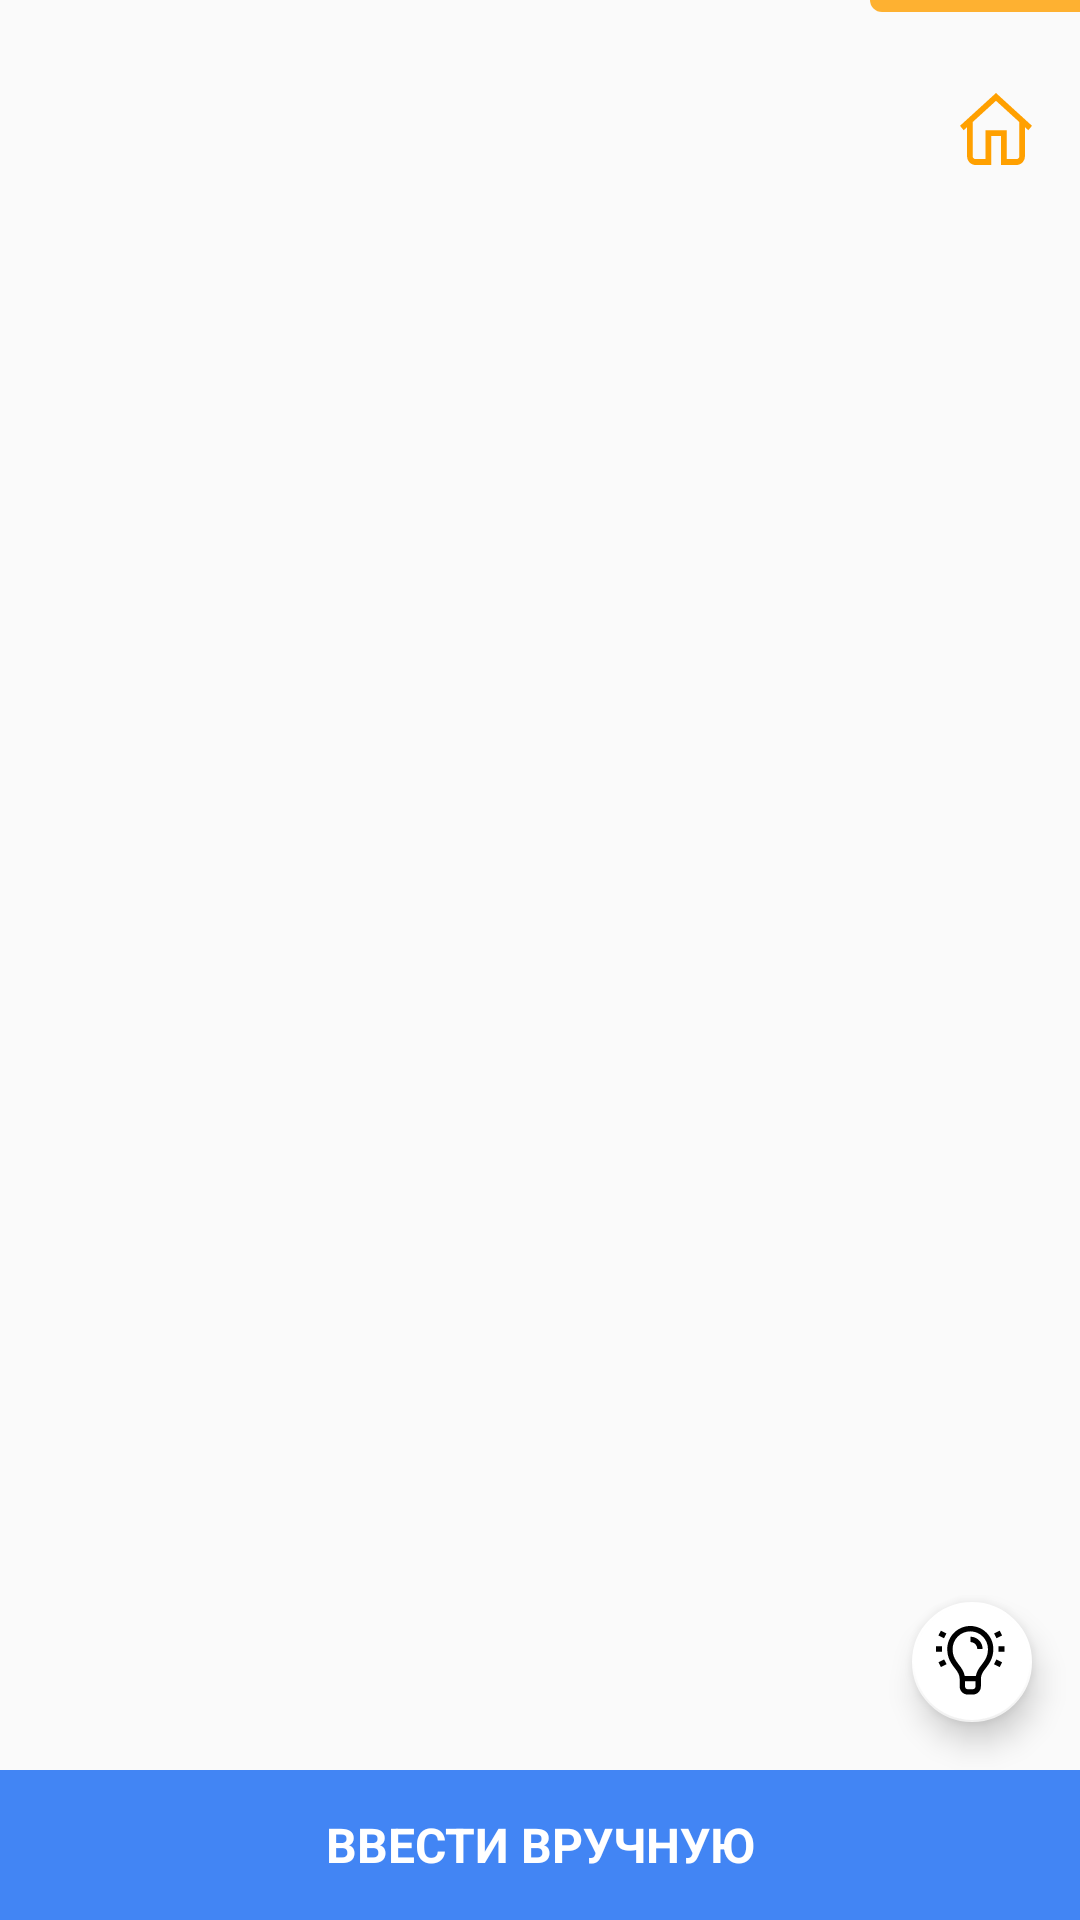

Icons on this 1080 x 1920 Android screen, each with the point to tap as (x,y):
home: (996,129)
idea: (961,1660)
